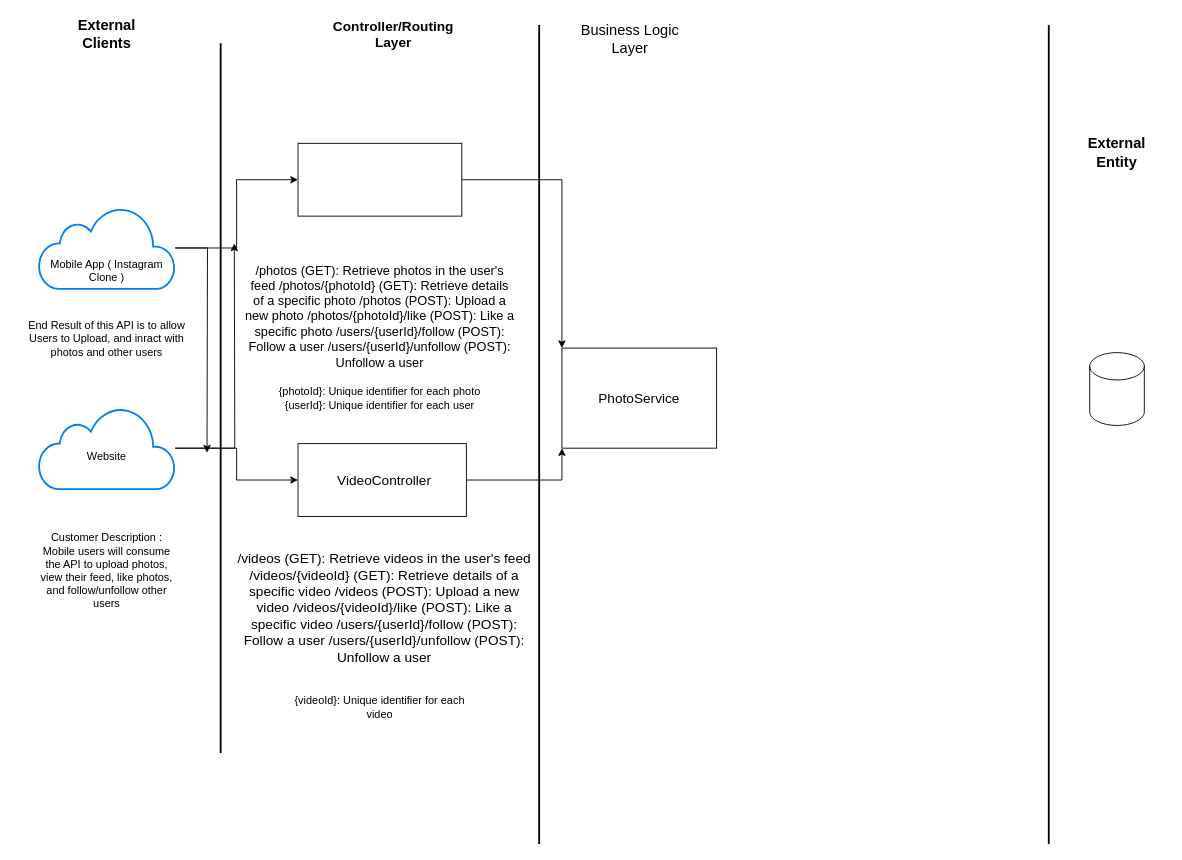
The diagram is 1182 pixels wide and 860 high, and some of its shapes have lost their labels. Here are the shapes that lost their labels. From the top down, the box of each, then its label:
(297, 142, 462, 216): PhotoCo ntroller
(1089, 352, 1144, 425): Database
